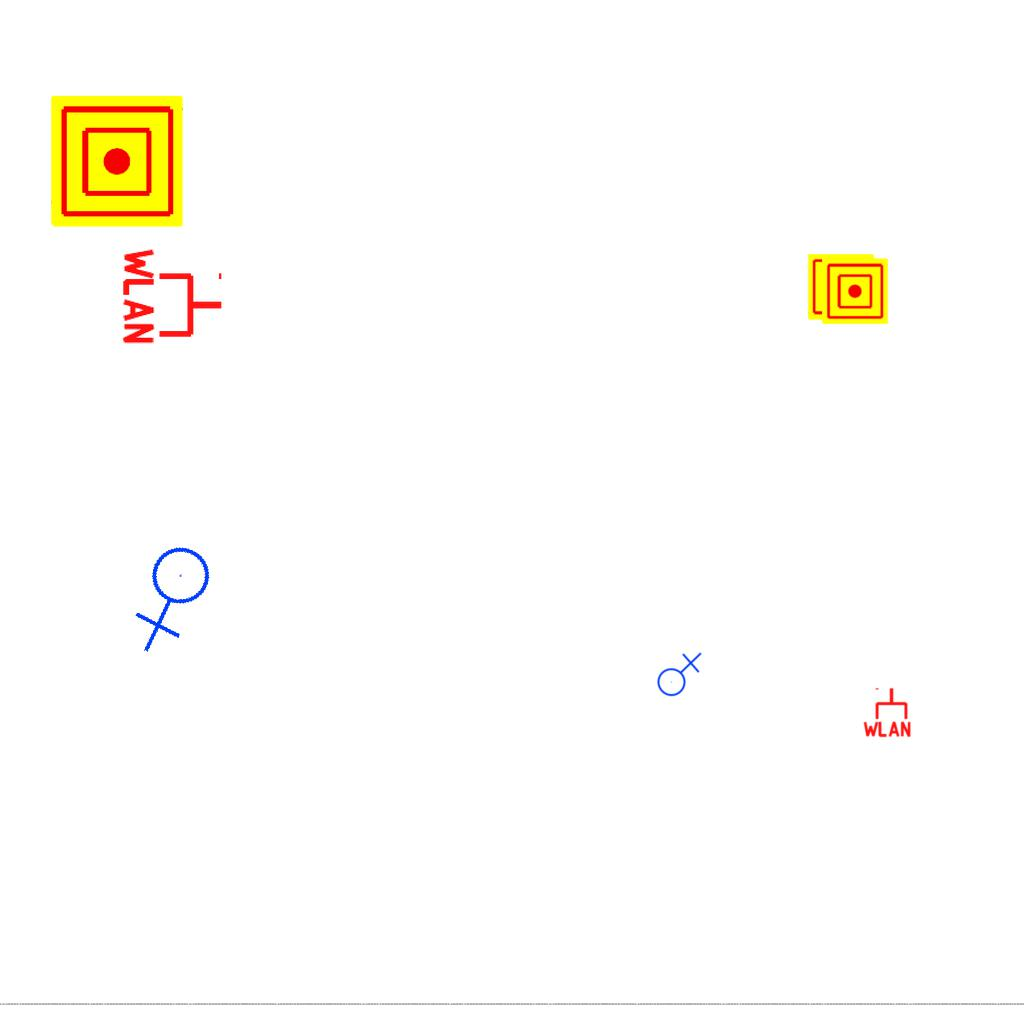Elektroanschluss_allgemein_230V_Geraeteanschlussdose_230V: (112, 534, 239, 658), (653, 650, 702, 697)
NAM-Nichtautomatischer_Melder: (51, 95, 183, 227), (808, 254, 874, 320), (822, 258, 888, 324)
WLAN: (121, 244, 226, 348), (861, 686, 913, 738)
